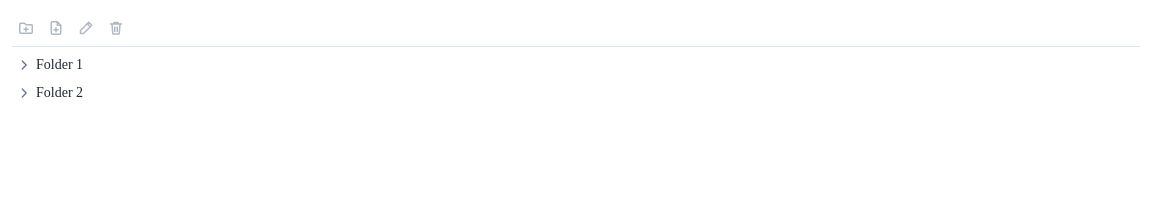
Test case: Direactree › keeps the list, selection, and confirmation when delete fails
The image size is (1152, 202).
Click the list item "Folder 2".
click(50, 93)  # box x1=16 y1=85 x2=83 y2=101
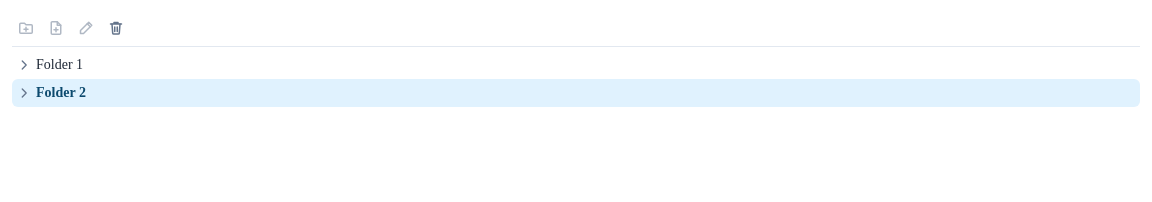
Click the button named "Delete".
click(116, 28)  # box x1=102 y1=14 x2=130 y2=42
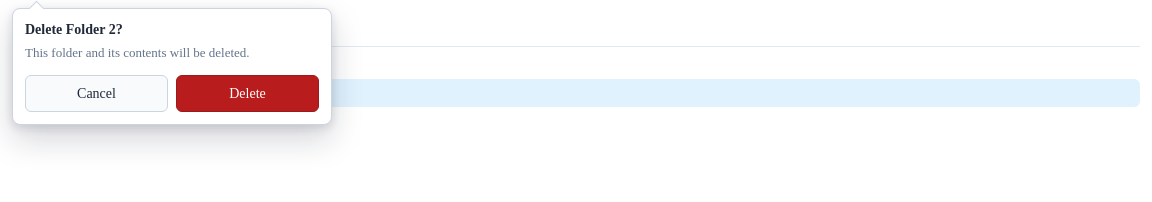
Click the button named "Confirm delete".
click(248, 94)  # box x1=176 y1=75 x2=319 y2=112
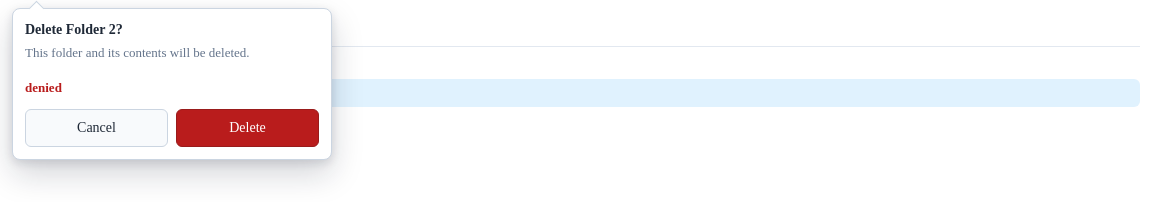
Check: the button named "Confirm delete" is enabled, box x1=176 y1=109 x2=319 y2=147
Check: the button "Cancel" is enabled, box x1=25 y1=109 x2=168 y2=147
Check: the message reads "denied", box x1=25 y1=80 x2=62 y2=95
